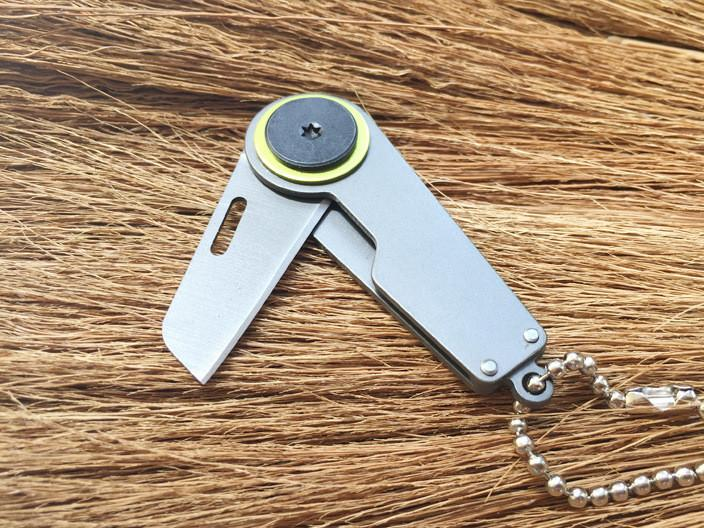knife: (98, 54, 693, 504)
